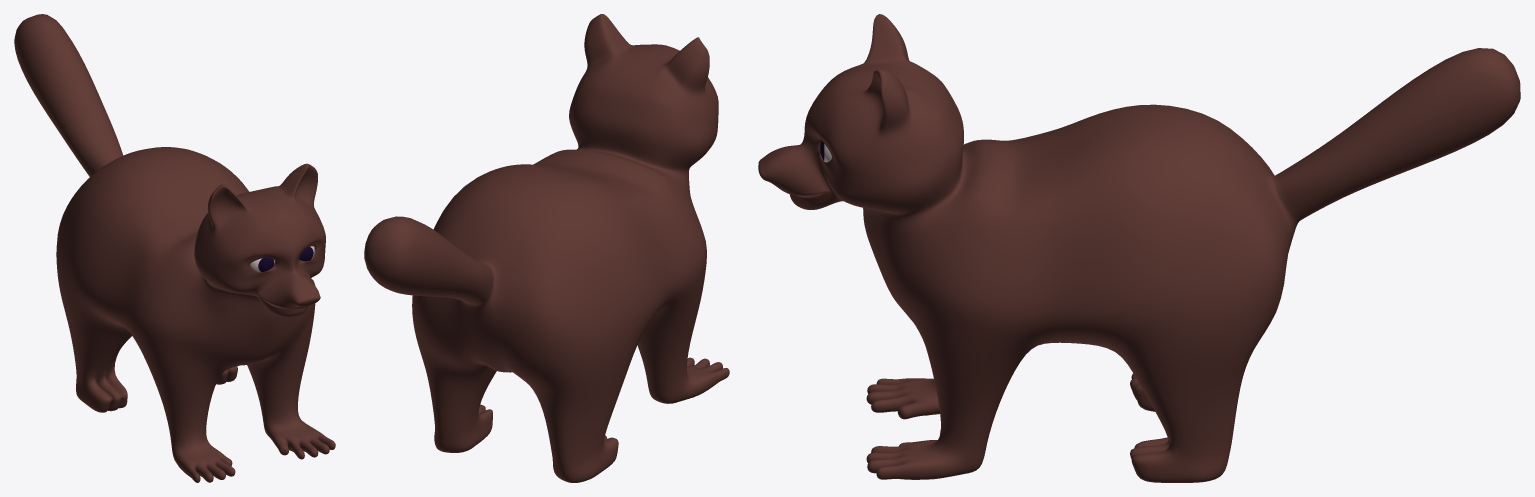
The model's file is animal.fbx.
3 views of the same model, side by side, from view 1: azimuth 30°, elevation 25°; view 2: azimuth 150°, elevation 25°; view 3: azimuth 270°, elevation 25° (orthographic). The views are drawn at different scales.
Parts seen in each view (by area): view 1: Cube, Sphere; view 2: Cube; view 3: Cube.
Boxes of the visible parts, x1,y1,x2,y2 form: Cube: (14, 14, 335, 482); Sphere: (250, 246, 314, 272); Cube: (364, 14, 729, 482); Cube: (758, 14, 1520, 482).
Bounding box in the file's own units: 39.03 × 60.48 × 105.
